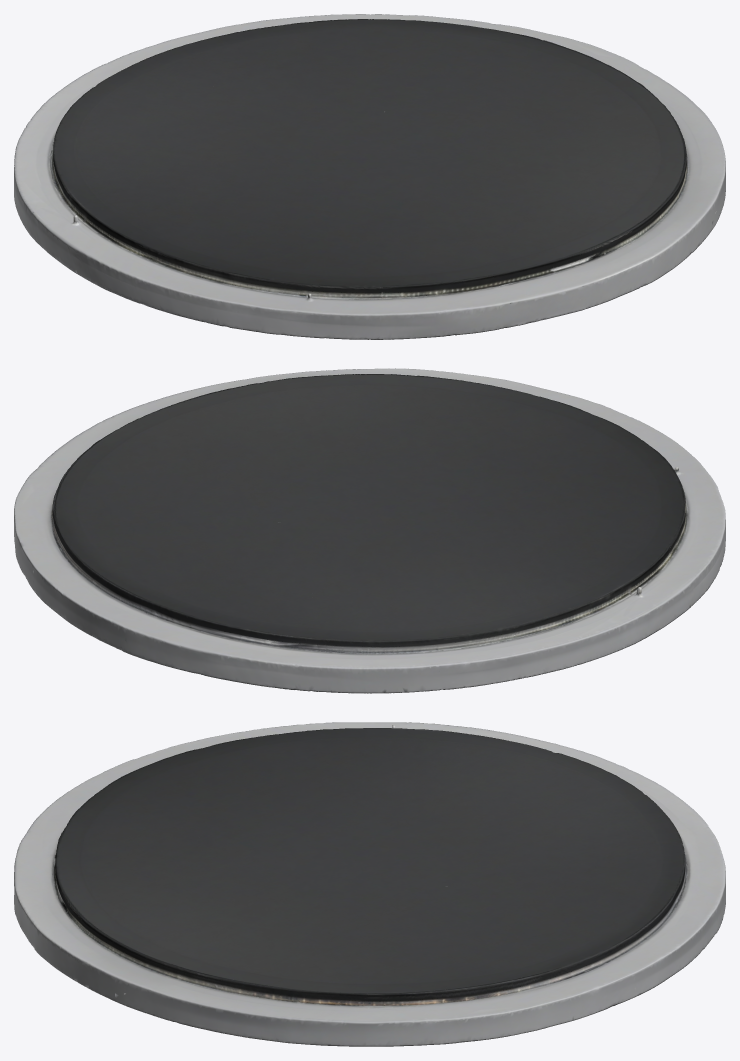
Rendered from clipboard_display_platform.glb.
3 renders of one model, top to bottom at view 1: azimuth 30°, elevation 25°; view 2: azimuth 150°, elevation 25°; view 3: azimuth 270°, elevation 25°, orthographic.
Parts seen in each view (by area): view 1: Object_4, Object_5; view 2: Object_5, Object_4; view 3: Object_4, Object_5.
Part boxes in pixels (bbox=[...]): Object_4: bbox=[14, 35, 725, 339]; Object_5: bbox=[14, 14, 691, 276]; Object_5: bbox=[14, 427, 694, 693]; Object_4: bbox=[14, 368, 725, 669]; Object_4: bbox=[14, 722, 575, 1046]; Object_5: bbox=[330, 722, 725, 1046].
Bounding box in the file's own units: 1.99 × 0.1143 × 2.
Materials: 1 (1 with a texture image).
